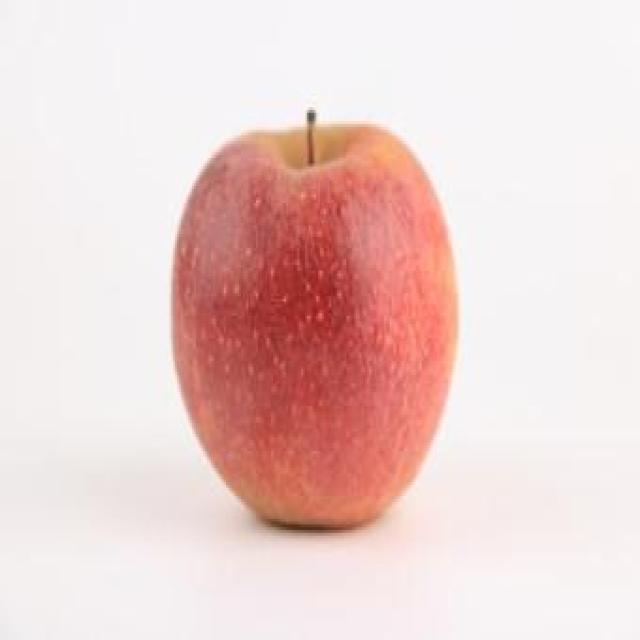apple: (170, 104, 460, 530)
